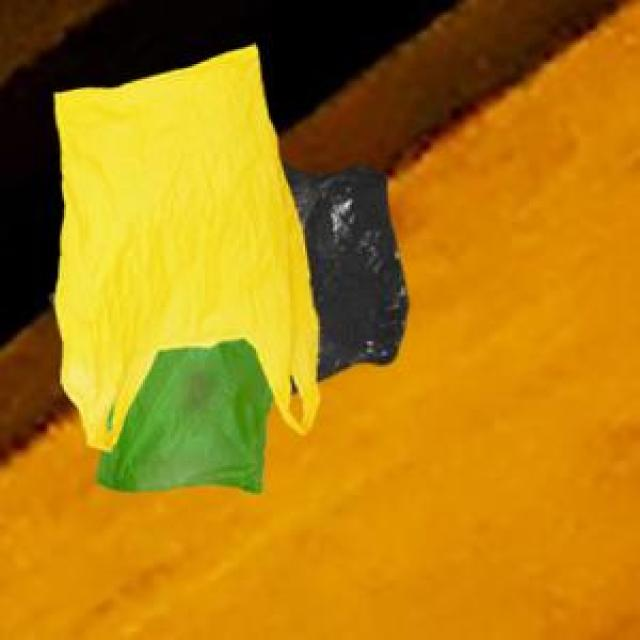plastic: (20, 34, 479, 530)
